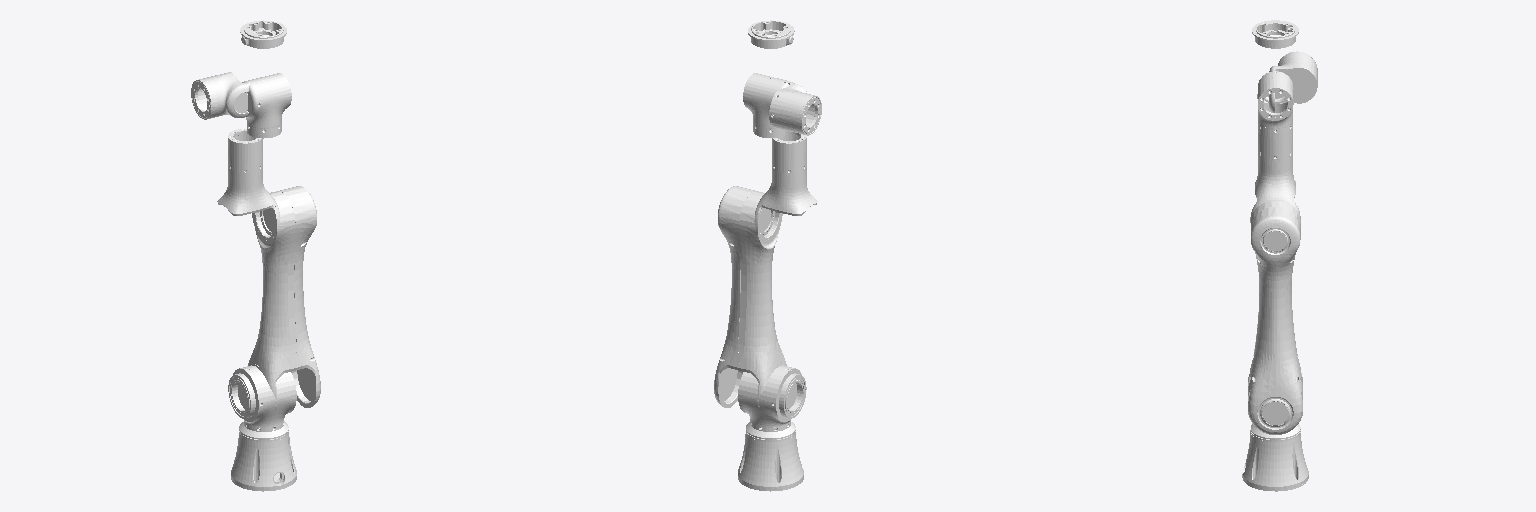
robot.urdf — arm620:
<?xml version="1.0" encoding="utf-8"?>
<robot
  name="arm620">
  <link
    name="base_link">
    <inertial>
      <origin
        xyz="-3.493E-05 1.9321E-08 0.041738"
        rpy="0 0 0" />
      <mass
        value="1.235" />
      <inertia
        ixx="0.00069305"
        ixy="-2.4629E-09"
        ixz="-7.7538E-07"
        iyy="0.00069224"
        iyz="1.1986E-09"
        izz="0.00059207" />
    </inertial>
    <visual>
      <origin
        xyz="0 0 0"
        rpy="0 0 0" />
      <geometry>
        <mesh
          filename="package://robot_description/meshes/arm620/base_link.STL" />
      </geometry>
      <material
        name="">
        <color
          rgba="1 1 1 1" />
      </material>
    </visual>
    <collision>
      <origin
        xyz="0 0 0"
        rpy="0 0 0" />
      <geometry>
        <mesh
          filename="package://robot_description/meshes/arm620/base_link.STL" />
      </geometry>
    </collision>
  </link>
  <link
    name="Link1">
    <inertial>
      <origin
        xyz="0.0083082 -9.0414E-07 0.066279"
        rpy="0 0 0" />
      <mass
        value="1.0225" />
      <inertia
        ixx="0.00033468"
        ixy="-1.0629E-08"
        ixz="-6.9769E-06"
        iyy="0.0002898"
        iyz="-1.0465E-08"
        izz="0.00026359" />
    </inertial>
    <visual>
      <origin
        xyz="0 0 0"
        rpy="0 0 0" />
      <geometry>
        <mesh
          filename="package://robot_description/meshes/arm620/Link1.STL" />
      </geometry>
      <material
        name="">
        <color
          rgba="1 1 1 1" />
      </material>
    </visual>
    <collision>
      <origin
        xyz="0 0 0"
        rpy="0 0 0" />
      <geometry>
        <mesh
          filename="package://robot_description/meshes/arm620/Link1.STL" />
      </geometry>
    </collision>
  </link>
  <joint
    name="joint1"
    type="revolute">
    <origin
      xyz="0 0 0.084"
      rpy="0 0 0" />
    <parent
      link="base_link" />
    <child
      link="Link1" />
    <axis
      xyz="0 0 1" />
    <limit
      lower="-2.967"
      upper="2.967"
      effort="51"
      velocity="3.14" />
  </joint>
  <link
    name="Link2">
    <inertial>
      <origin
        xyz="1.6176E-06 0.19554 -0.0019139"
        rpy="0 0 0" />
      <mass
        value="1.925" />
      <inertia
        ixx="0.0092613"
        ixy="2.9244E-08"
        ixz="-6.7107E-09"
        iyy="0.00075528"
        iyz="-1.5539E-05"
        izz="0.0090845" />
    </inertial>
    <visual>
      <origin
        xyz="0 0 0"
        rpy="0 0 0" />
      <geometry>
        <mesh
          filename="package://robot_description/meshes/arm620/Link2.STL" />
      </geometry>
      <material
        name="">
        <color
          rgba="1 1 1 1" />
      </material>
    </visual>
    <collision>
      <origin
        xyz="0 0 0"
        rpy="0 0 0" />
      <geometry>
        <mesh
          filename="package://robot_description/meshes/arm620/Link2.STL" />
      </geometry>
    </collision>
  </link>
  <joint
    name="joint2"
    type="revolute">
    <origin
      xyz="0 0 0.068718"
      rpy="1.5708 0 -1.5708" />
    <parent
      link="Link1" />
    <child
      link="Link2" />
    <axis
      xyz="0 0 -1" />
    <limit
      lower="-1.5708"
      upper="1.5708"
      effort="51"
      velocity="3.14" />
  </joint>
  <link
    name="Link3">
    <inertial>
      <origin
        xyz="1.8251E-05 -0.073691 0.010704"
        rpy="0 0 0" />
      <mass
        value="0.73" />
      <inertia
        ixx="0.00059318"
        ixy="1.2073E-07"
        ixz="1.9423E-08"
        iyy="0.00015563"
        iyz="-0.00011324"
        izz="0.00055379" />
    </inertial>
    <visual>
      <origin
        xyz="0 0 0"
        rpy="0 0 0" />
      <geometry>
        <mesh
          filename="package://robot_description/meshes/arm620/Link3.STL" />
      </geometry>
      <material
        name="">
        <color
          rgba="1 1 1 1" />
      </material>
    </visual>
    <collision>
      <origin
        xyz="0 0 0"
        rpy="0 0 0" />
      <geometry>
        <mesh
          filename="package://robot_description/meshes/arm620/Link3.STL" />
      </geometry>
    </collision>
  </link>
  <joint
    name="joint3"
    type="revolute">
    <origin
      xyz="0 0.30025 0"
      rpy="-3.1416 0 0" />
    <parent
      link="Link2" />
    <child
      link="Link3" />
    <axis
      xyz="0 0 1" />
    <limit
      lower="-1.5708"
      upper="1.5708"
      effort="51"
      velocity="3.14" />
  </joint>
  <link
    name="Link4">
    <inertial>
      <origin
        xyz="0.0059454 2.5068E-05 0.051809"
        rpy="0 0 0" />
      <mass
        value="0.5174" />
      <inertia
        ixx="0.00010342"
        ixy="-7.9433E-09"
        ixz="-7.9245E-06"
        iyy="0.0001193"
        iyz="-1.6196E-08"
        izz="8.5637E-05" />
    </inertial>
    <visual>
      <origin
        xyz="0 0 0"
        rpy="0 0 0" />
      <geometry>
        <mesh
          filename="package://robot_description/meshes/arm620/Link4.STL" />
      </geometry>
      <material
        name="">
        <color
          rgba="1 1 1 1" />
      </material>
    </visual>
    <collision>
      <origin
        xyz="0 0 0"
        rpy="0 0 0" />
      <geometry>
        <mesh
          filename= "package://robot_description/meshes/arm620/Link4.STL" />
      </geometry>
    </collision>
  </link>
  <joint
    name="joint4"
    type="revolute">
    <origin
      xyz="0 -0.15558 3.5E-05"
      rpy="1.5708 -1.5708 0" />
    <parent
      link="Link3" />
    <child
      link="Link4" />
    <axis
      xyz="0 0 1" />
    <limit
      lower="-2.967"
      upper="2.967"
      effort="9"
      velocity="3.14" />
  </joint>
  <link
    name="Link5">
    <inertial>
      <origin
        xyz="0.0095168 0.061153 1.0106E-05"
        rpy="0 0 0" />
      <mass
        value="0.7233" />
      <inertia
        ixx="0.00013586"
        ixy="3.9115E-05"
        ixz="3.3963E-08"
        iyy="0.00010055"
        iyz="-1.3885E-07"
        izz="0.0001594" />
    </inertial>
    <visual>
      <origin
        xyz="0 0 0"
        rpy="0 0 0" />
      <geometry>
        <mesh
          filename= "package://robot_description/meshes/arm620/Link5.STL" />
      </geometry>
      <material
        name="">
        <color
          rgba="1 1 1 1" />
      </material>
    </visual>
    <collision>
      <origin
        xyz="0 0 0"
        rpy="0 0 0" />
      <geometry>
        <mesh
          filename= "package://robot_description/meshes/arm620/Link5.STL" />
      </geometry>
    </collision>
  </link>
  <joint
    name="joint5"
    type="revolute">
    <origin
      xyz="-3.5E-05 1.5362E-05 0.064223"
      rpy="1.5708 0 0" />
    <parent
      link="Link4" />
    <child
      link="Link5" />
    <axis
      xyz="1 0 0" />
    <limit
      lower="-1.5708"
      upper="1.5708"
      effort="9"
      velocity="3.14" />
  </joint>
  <link
    name="Link6">
    <inertial>
      <origin
        xyz="-0.0023023 0.0016027 0.010682"
        rpy="0 0 0" />
      <mass
        value="0.0953" />
      <inertia
        ixx="1.3179E-05"
        ixy="-9.4826E-08"
        ixz="2.2437E-07"
        iyy="1.3416E-05"
        iyz="-1.8512E-07"
        izz="2.4622E-05" />
    </inertial>
    <visual>
      <origin
        xyz="0 0 0"
        rpy="0 0 0" />
      <geometry>
        <mesh
          filename= "package://robot_description/meshes/arm620/Link6.STL" />
      </geometry>
      <material
        name="">
        <color
          rgba="1 1 1 1" />
      </material>
    </visual>
    <collision>
      <origin
        xyz="0 0 0"
        rpy="0 0 0" />
      <geometry>
        <mesh
          filename= "package://robot_description/meshes/arm620/Link6.STL" />
      </geometry>
    </collision>
  </link>
  <joint
    name="joint6"
    type="revolute">
    <origin
      xyz="-0.00047523 0.095552 0"
      rpy="-1.5709 0 0" />
    <parent
      link="Link5" />
    <child
      link="Link6" />
    <axis
      xyz="0 0 1" />
    <limit
      lower="-2.967"
      upper="2.967"
      effort="9"
      velocity="3.14" />
  </joint>
  <link name="world"/>
  <joint name="base_joint" type="fixed">
      <parent link="world"/>
      <child link="base_link"/>
      <origin xyz="0 0 0" rpy="0 0 0" />
      <axis xyz="0 0 1" />
  </joint>
  
</robot>

--- Facts derived from the render (not from the file) ---
3 views of the same robot in one strip: view 1: azimuth 30°, elevation 25°; view 2: azimuth 150°, elevation 25°; view 3: azimuth 270°, elevation 25° (orthographic).
Model arm620 with 8 links and 7 joints (6 revolute, 1 fixed), rooted at world, posed every joint at zero.
Visible links, largest first — view 1: Link2, Link3, Link1, base_link, Link4, Link5, Link6; view 2: Link2, Link1, Link3, base_link, Link5, Link4, Link6; view 3: Link2, base_link, Link3, Link4, Link5, Link6.
Boxes of the visible links, x1,y1,x2,y2 form: Link2: (248,186,320,410); Link3: (217,129,279,241); Link1: (228,365,296,439); base_link: (231,431,296,491); Link4: (242,73,291,138); Link5: (191,72,265,119); Link6: (240,20,286,48); Link2: (714,186,786,410); Link1: (738,365,806,439); Link3: (754,131,817,241); base_link: (738,431,803,491); Link5: (769,78,821,135); Link4: (743,73,792,137); Link6: (748,20,794,48); Link2: (1248,201,1302,434); base_link: (1242,430,1308,491); Link3: (1250,133,1300,222); Link4: (1257,71,1293,138); Link5: (1269,51,1317,112); Link6: (1252,20,1298,48).
Size in the robot's own frame: 0.182 by 0.12 by 0.7893 metres.
Meshes: 7 distinct files referenced, 7 mesh visuals loaded (7 binary STL).
